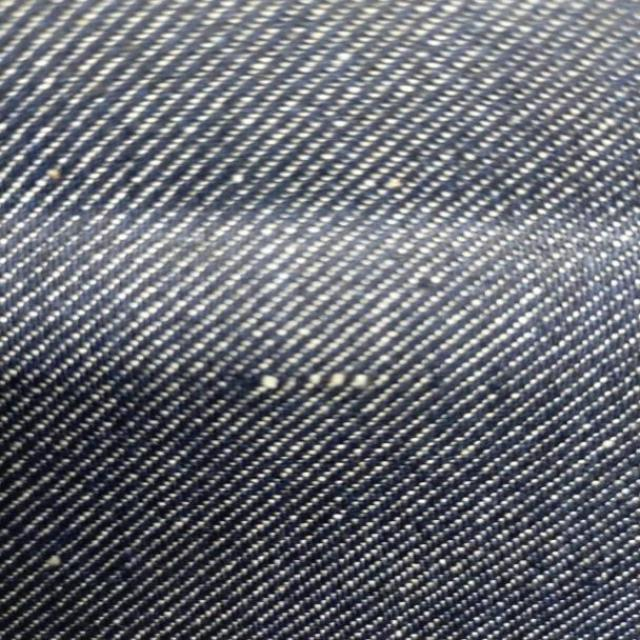Knot: (258, 372, 372, 392)
